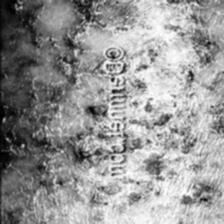Non-Cancerous Skin Condition: (128, 0, 224, 224), (0, 0, 86, 224)
